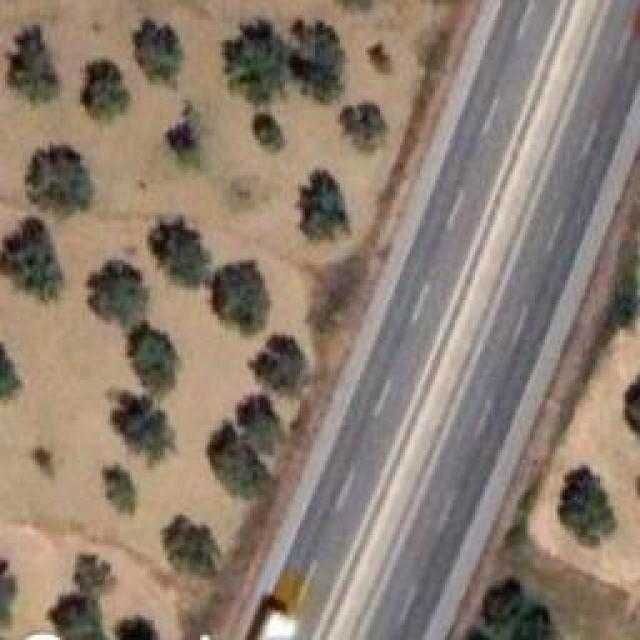Tree: (223, 20, 288, 108), (208, 420, 278, 500), (467, 578, 555, 640), (0, 220, 62, 303), (25, 145, 93, 215), (558, 467, 617, 547), (113, 393, 177, 465), (148, 218, 211, 289), (213, 260, 272, 333), (88, 260, 149, 328), (8, 25, 61, 103), (128, 323, 179, 395), (293, 18, 346, 86), (162, 518, 220, 579), (250, 335, 308, 395), (300, 170, 349, 240), (235, 388, 288, 449), (133, 18, 178, 85), (83, 60, 132, 120), (48, 595, 103, 640), (70, 543, 114, 592), (345, 102, 388, 150), (253, 113, 288, 153), (105, 468, 133, 514), (0, 344, 21, 398), (165, 120, 196, 153), (363, 44, 396, 74), (114, 617, 157, 640), (625, 375, 640, 433)
